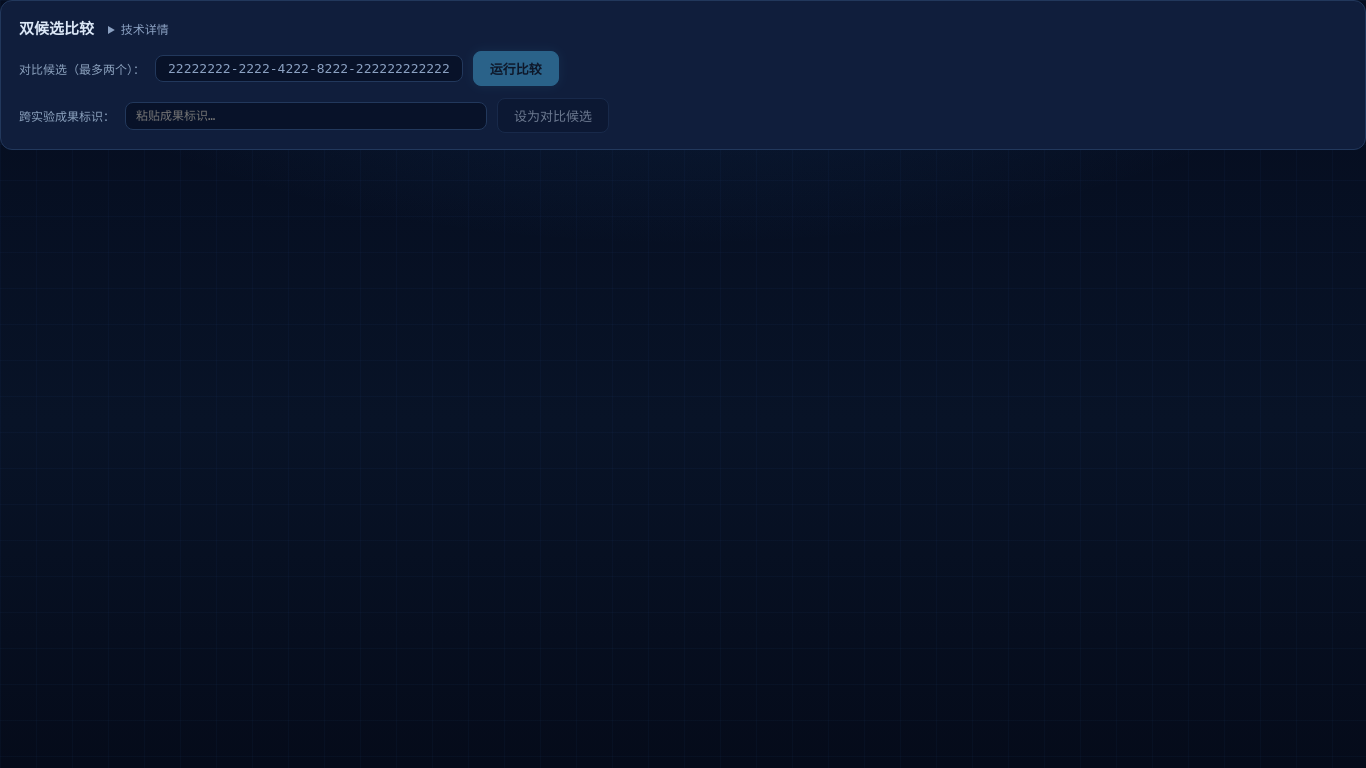
Scenario: CandidateComparison 跨实验候选输入 › 跨实验 incompatible：兼容结论来自后端，显示 mismatches 且无指标差
Type "33333333-3333-4333-8333-333333333333" into the field with test id "comparison-external-input". click: (306, 116)
box: [125, 102, 487, 130]
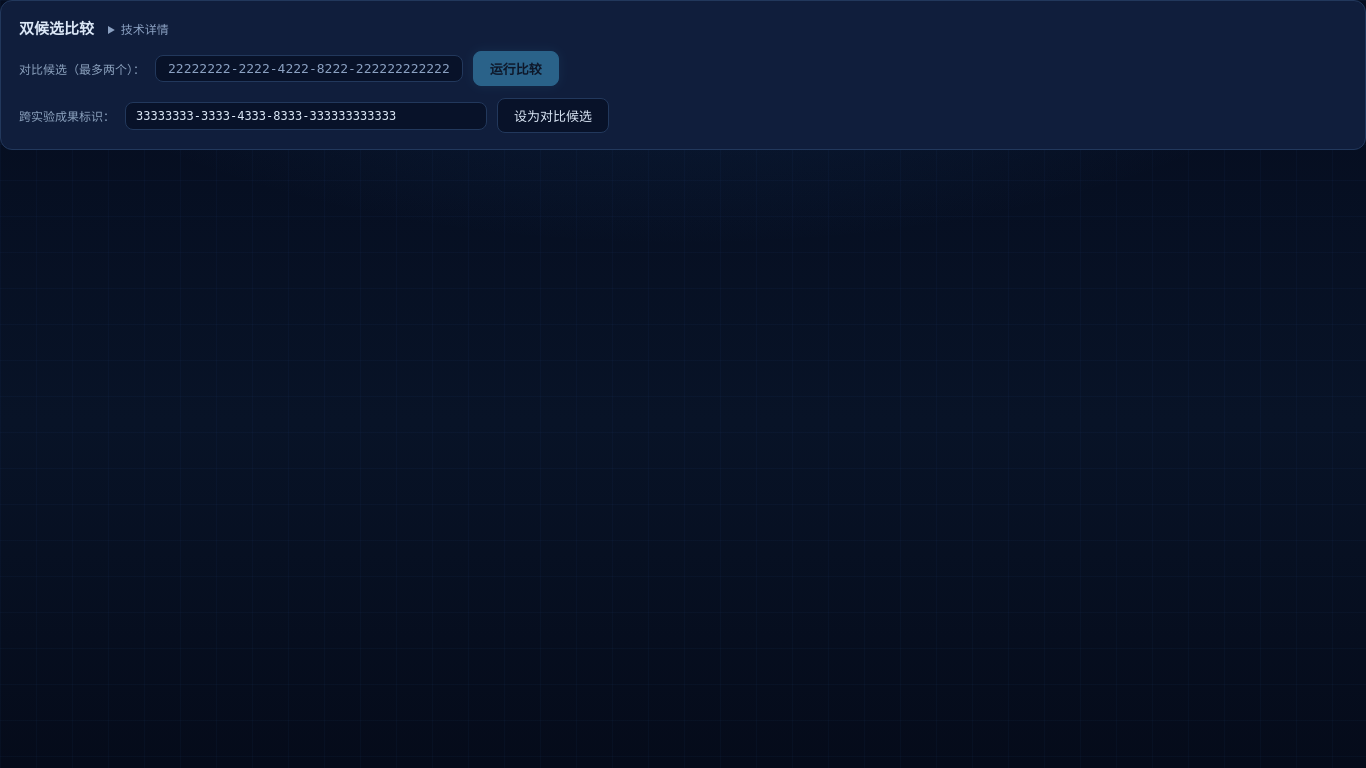
Click the button with test id "comparison-external-apply". click: (553, 116)
box: [497, 98, 609, 133]
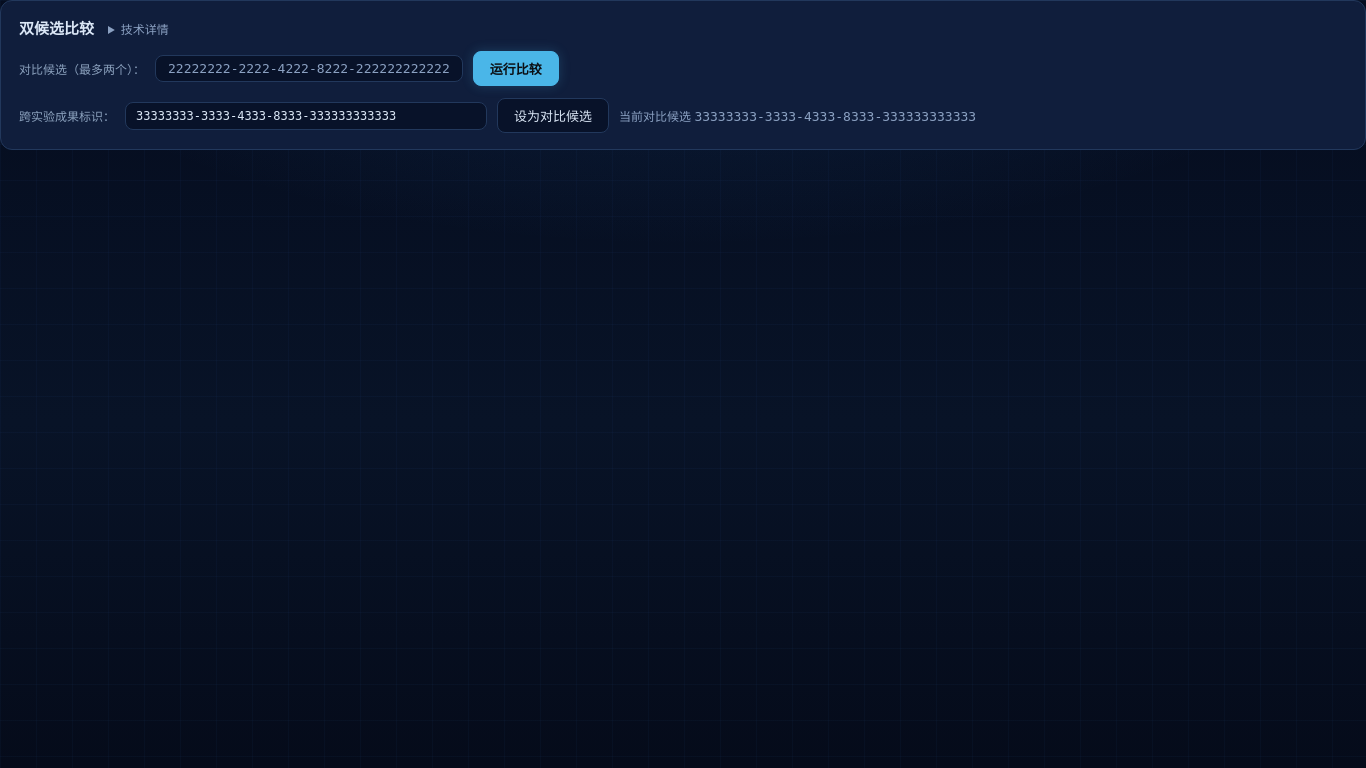
Click the button with test id "comparison-run". click: (516, 68)
box: [473, 51, 559, 86]
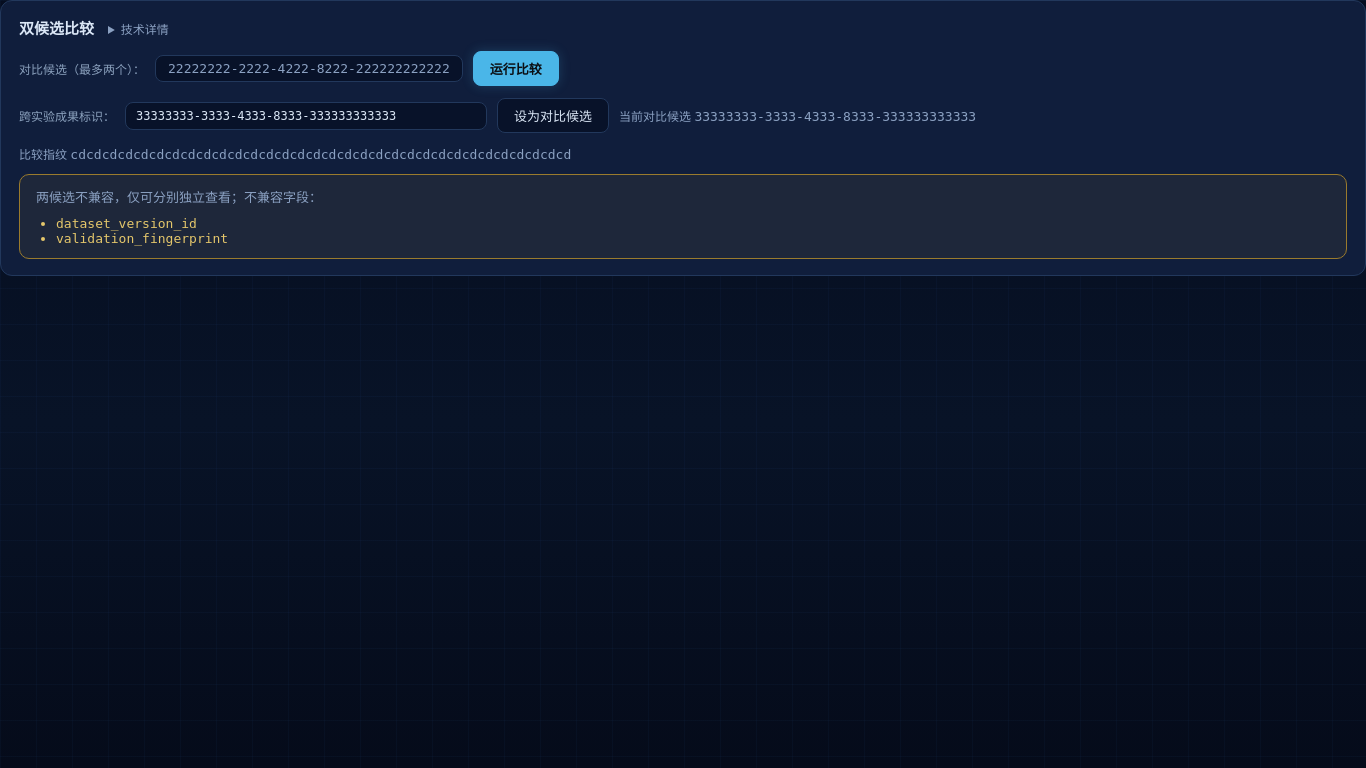
Check: the element with test id "comparison-incompatible" is shown, box [19, 174, 1347, 259]
Check: the list with test id "mismatch-reasons" shows "dataset_version_id", box [56, 216, 197, 231]
Check: the list with test id "mismatch-reasons" shows "validation_fingerprint", box [56, 231, 228, 246]
